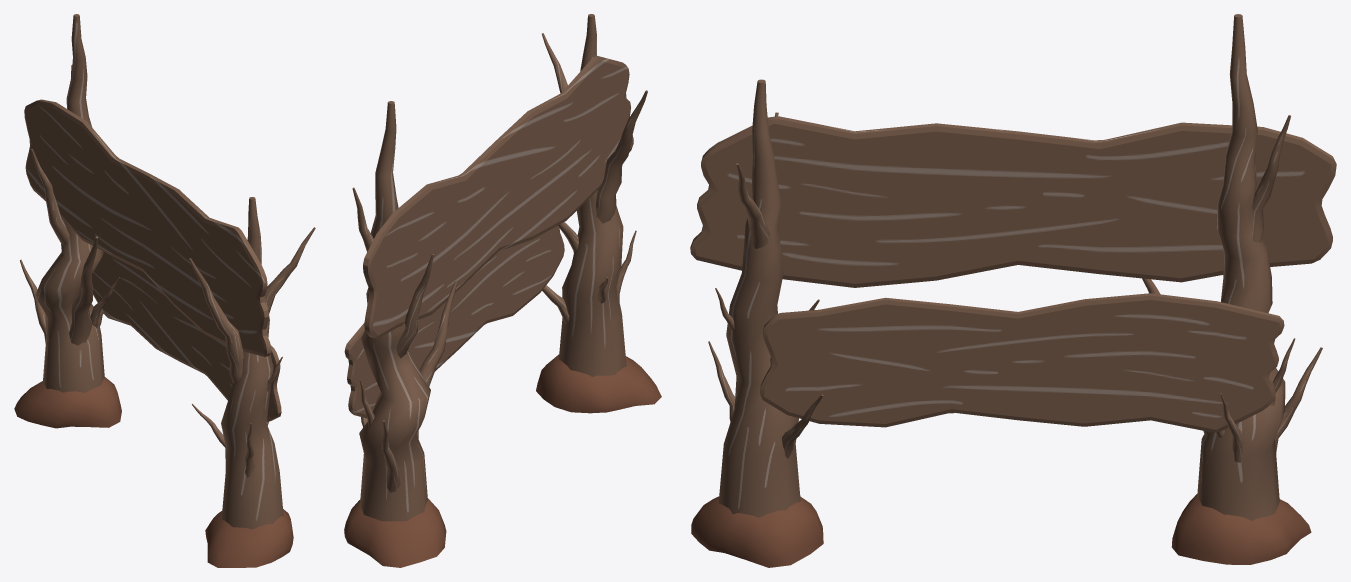
Rendered from Root Fence.fbx.
3 renders of one model, left to right at view 1: azimuth 30°, elevation 25°; view 2: azimuth 150°, elevation 25°; view 3: azimuth 270°, elevation 25°, orthographic. The views are drawn at different scales.
Visible parts, largest first — view 1: Board_003, RootStemUnique001, RootStemSpecial001, Board_004, DirtMound_004, DirtMound_003, SideRoot_022, SideRoot_025, SideRoot_026, SideRoot_018, SideRoot_027; view 2: Board_003, RootStemSpecial001, Board_004, RootStemUnique001, DirtMound_003, DirtMound_004, SideRoot_022, SideRoot_026, SideRoot_025, SideRoot_027, SideRoot_024; view 3: Board_003, Board_004, RootStemUnique001, RootStemSpecial001, DirtMound_004, DirtMound_003, SideRoot_024, SideRoot_018, SideRoot_027.
Part boxes in pixels (x1,y1,x2,y2): Board_003: [24, 99, 271, 356]; RootStemUnique001: [221, 197, 283, 529]; RootStemSpecial001: [35, 14, 104, 392]; Board_004: [92, 252, 281, 421]; DirtMound_004: [14, 377, 121, 428]; DirtMound_003: [205, 509, 293, 567]; SideRoot_022: [189, 258, 243, 383]; SideRoot_025: [69, 236, 98, 345]; SideRoot_026: [31, 149, 69, 245]; SideRoot_018: [264, 227, 315, 313]; SideRoot_027: [20, 259, 46, 342]; Board_003: [363, 56, 633, 338]; RootStemSpecial001: [359, 101, 430, 521]; Board_004: [344, 226, 564, 418]; RootStemUnique001: [558, 14, 626, 376]; DirtMound_003: [536, 354, 661, 413]; DirtMound_004: [344, 498, 446, 567]; SideRoot_022: [596, 90, 647, 223]; SideRoot_026: [396, 254, 434, 358]; SideRoot_025: [416, 281, 457, 438]; SideRoot_027: [381, 420, 400, 492]; SideRoot_024: [352, 187, 373, 251]; Board_003: [690, 116, 1336, 287]; Board_004: [760, 293, 1284, 432]; RootStemUnique001: [718, 79, 800, 517]; RootStemSpecial001: [1197, 14, 1285, 520]; DirtMound_004: [1171, 494, 1311, 564]; DirtMound_003: [691, 496, 823, 567]; SideRoot_024: [1252, 115, 1290, 242]; SideRoot_018: [736, 163, 769, 248]; SideRoot_027: [1275, 347, 1322, 453].
Bounding box in the file's own units: 2.4 × 8.17 × 9.03.
5 materials, 5 textured.
